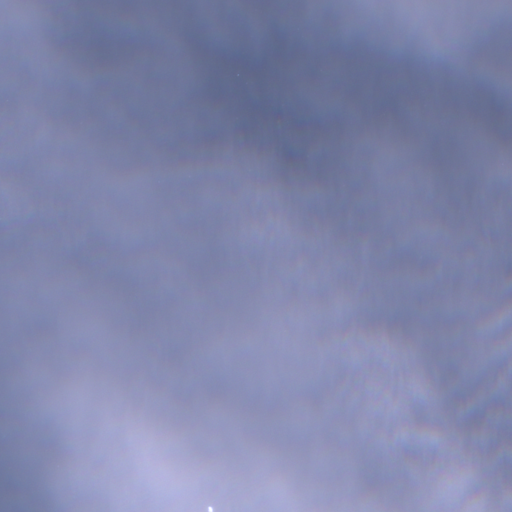Iceberg: (208, 507, 212, 511)
